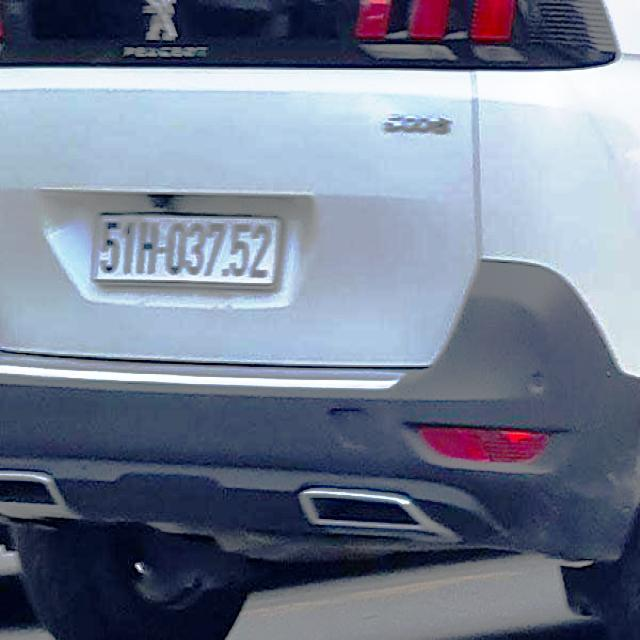license_plate: (91, 211, 281, 291)
